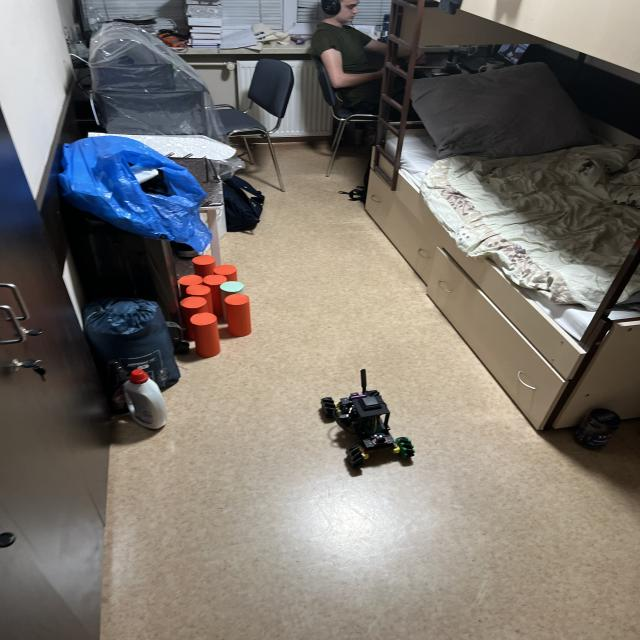robot: (321, 369, 414, 467)
